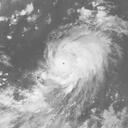cyclone: (41, 35, 92, 90)
